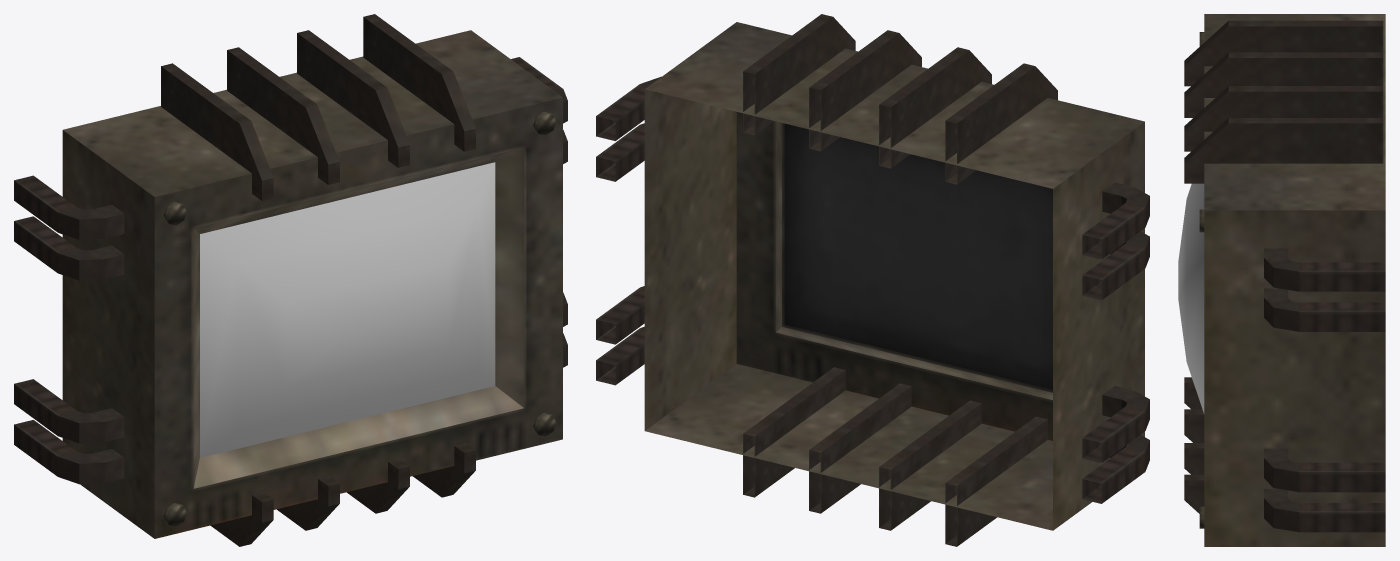
Rendered from screen_etx_1_partial.dae.
3 views of the same model, side by side, from view 1: azimuth 30°, elevation 25°; view 2: azimuth 150°, elevation 25°; view 3: azimuth 270°, elevation 25° (orthographic).
Parts seen in each view (by area): view 1: screen_etx_1_partial, screen_etx_1_partial_round_screen; view 2: screen_etx_1_partial; view 3: screen_etx_1_partial, screen_etx_1_partial_round_screen.
Boxes of the visible parts, x1,y1,x2,y2 form: screen_etx_1_partial: (14, 14, 567, 546); screen_etx_1_partial_round_screen: (200, 162, 495, 457); screen_etx_1_partial: (596, 14, 1149, 546); screen_etx_1_partial: (1184, 14, 1385, 546); screen_etx_1_partial_round_screen: (1178, 183, 1204, 413).
Size of the model in its own units: 0.468 by 0.1686 by 0.3744.
